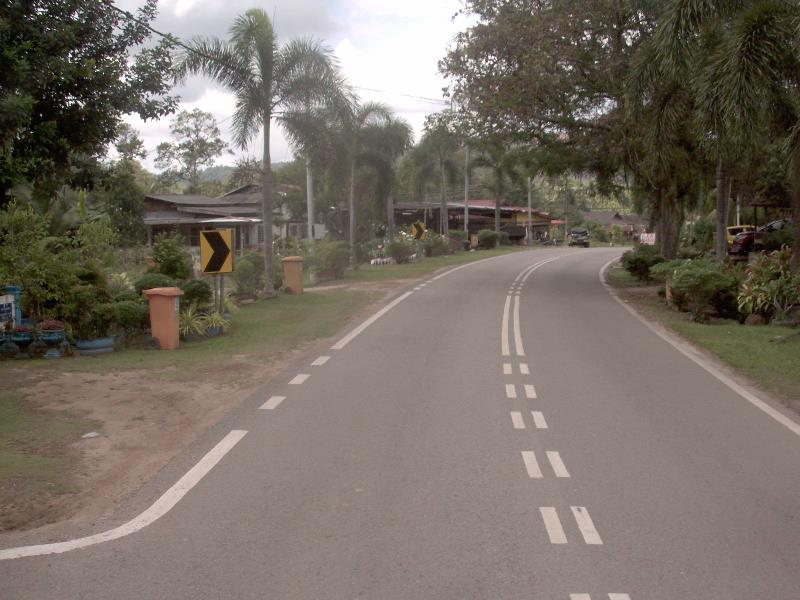traffic_sign: (193, 220, 240, 283)
